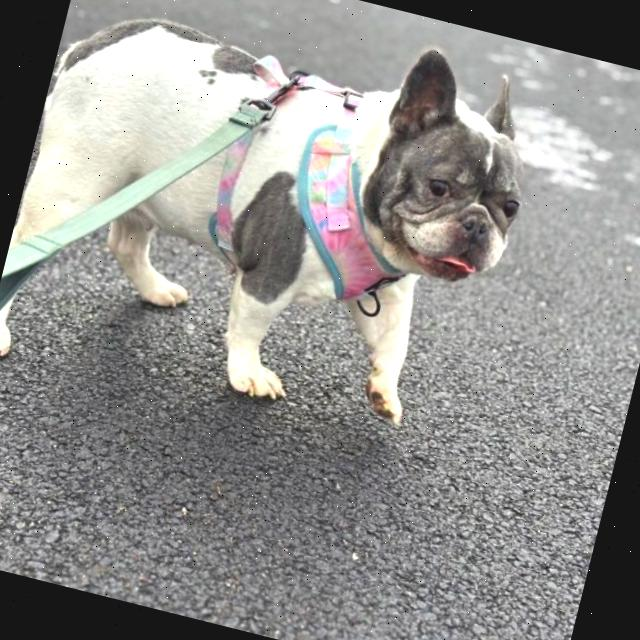french_bulldog_dog: (320, 37, 564, 320)
